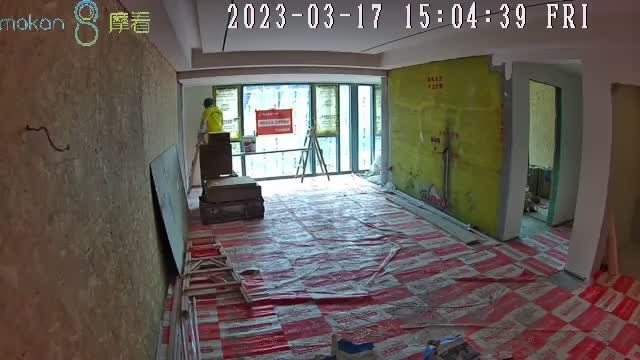people: (199, 97, 223, 136)
window: (213, 82, 380, 177)
